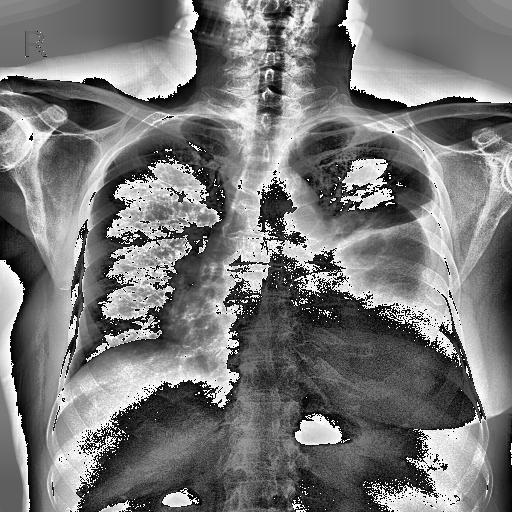0- Aortic enlargement: (258, 165, 316, 223)
10- Pleural effusion: (344, 221, 470, 386), (324, 200, 444, 370), (318, 247, 450, 367)
11- Pleural thickening: (353, 116, 431, 167), (339, 112, 409, 136), (147, 114, 202, 130), (310, 114, 370, 128), (166, 112, 224, 121)
13- Pulmonary fibrosis: (320, 212, 438, 254), (335, 210, 431, 250)
3- Cardiomegaly: (176, 280, 378, 364)
7- Lung Opacity: (316, 202, 430, 302), (330, 218, 432, 307), (342, 228, 422, 306)
